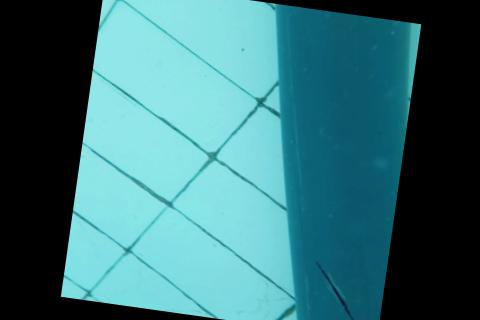keretakan: (307, 261, 386, 320)
